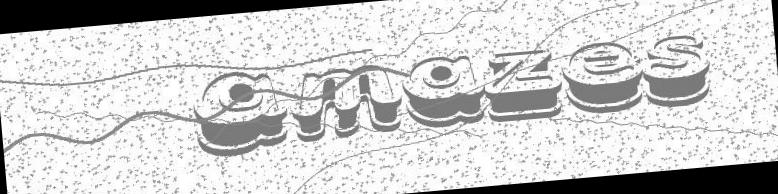a: (188, 66, 294, 160), (398, 52, 487, 133)
e: (560, 37, 646, 118)
m: (288, 63, 406, 144)
s: (640, 32, 714, 111)
z: (481, 46, 566, 124)
